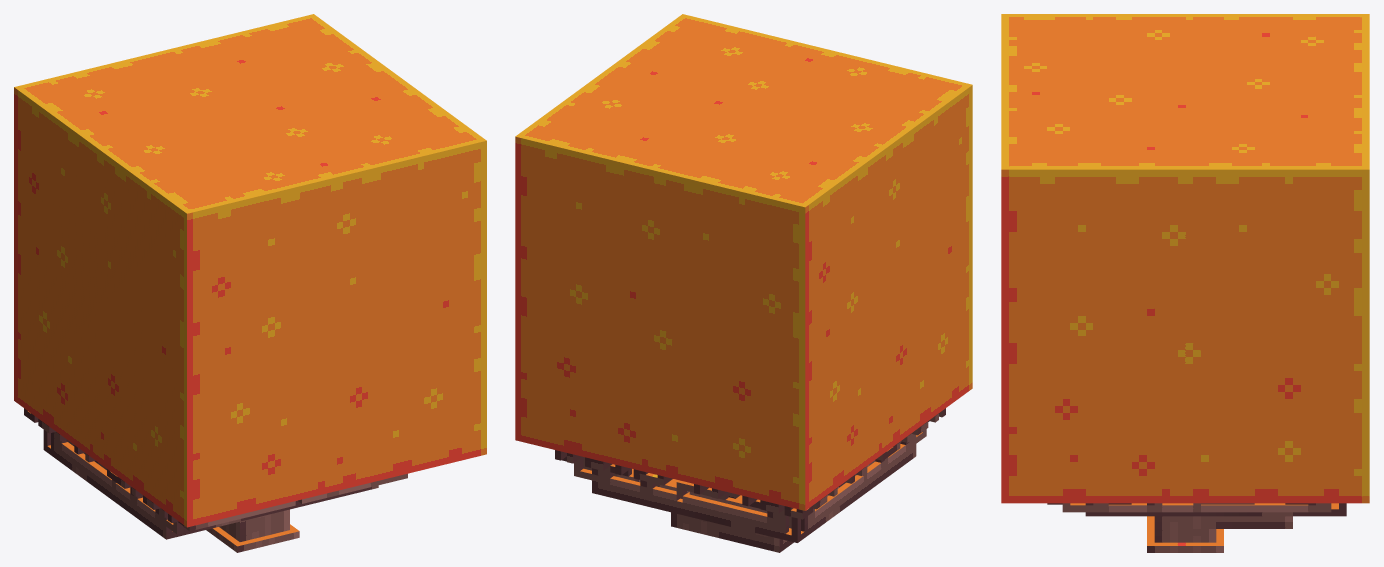
Rendered from big_tree_orangeao.fezao.glb.
3 views of the same model, side by side, from view 1: azimuth 30°, elevation 25°; view 2: azimuth 150°, elevation 25°; view 3: azimuth 270°, elevation 25° (orthographic). The views are drawn at different scales.
Parts seen in each view (by area): view 1: BIG_tree_ORANGEAO; view 2: BIG_tree_ORANGEAO; view 3: BIG_tree_ORANGEAO.
Boxes of the visible parts, x1,y1,x2,y2 form: BIG_tree_ORANGEAO: (14, 14, 486, 552); BIG_tree_ORANGEAO: (515, 14, 972, 552); BIG_tree_ORANGEAO: (1001, 14, 1369, 552).
Size of the model in its own units: 3 by 4 by 3.
1 material, 1 textured.
